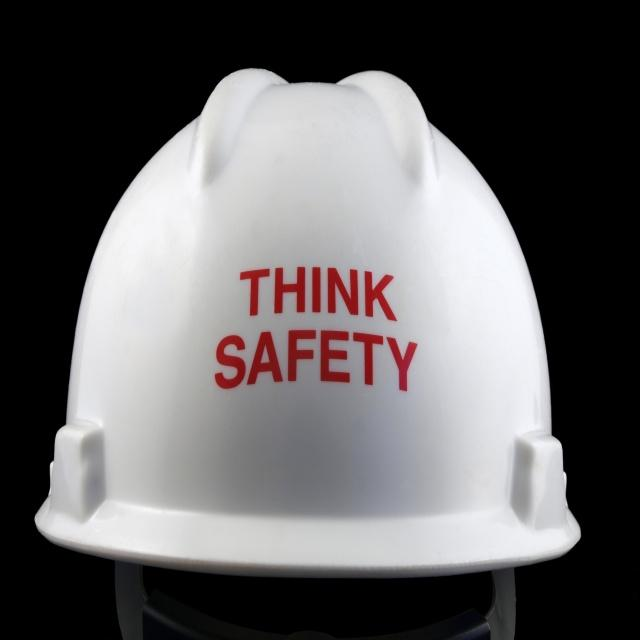helmet: (33, 84, 586, 640)
